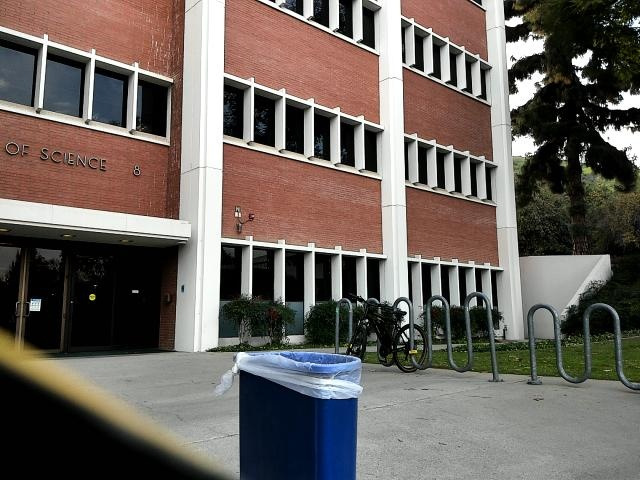trashcan_open: (223, 351, 361, 480)
